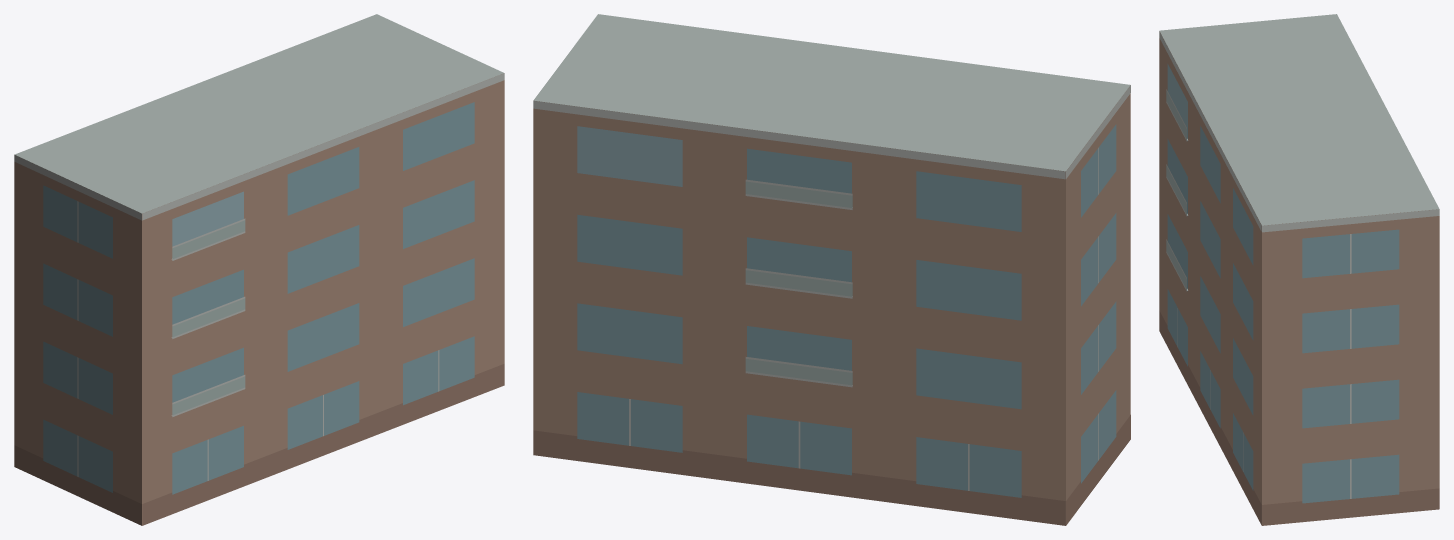
The model's file is survey-upis-32722620.glb.
3 renders of one model, left to right at view 1: azimuth 30°, elevation 25°; view 2: azimuth 150°, elevation 25°; view 3: azimuth 270°, elevation 25°, orthographic. The views are drawn at different scales.
Parts seen in each view (by area): view 1: survey-upis-32722620.tmp; view 2: survey-upis-32722620.tmp; view 3: survey-upis-32722620.tmp.
Boxes of the visible parts, x1=… form: survey-upis-32722620.tmp: x1=14, y1=14, x2=504, y2=525; survey-upis-32722620.tmp: x1=533, y1=14, x2=1130, y2=525; survey-upis-32722620.tmp: x1=1159, y1=14, x2=1439, y2=525.
Size of the model in its own units: 16.34 by 10.8 by 9.15.
